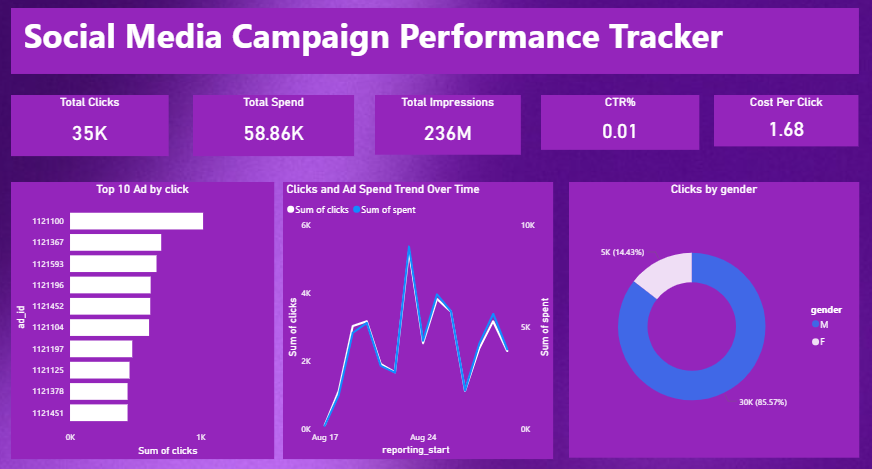

The page's visual inventory and layout, read from the dashboard file:
{"tool":"powerbi","page":{"name":"Page 1","canvas":[1280,720],"ordinal":0},"visuals":[{"type":"card","title":"Total Clicks","fields":{"Values":["data.Total Clicks"]},"box":[28.7,147.1,226.6,87.9],"z":0},{"type":"card","title":"Total Impressions","fields":{"Values":["data.Total Impressions"]},"box":[552.9,147.1,209.7,86.2],"z":1000},{"type":"card","title":"Total Spend","fields":{"Values":["data.Total Spend"]},"box":[290.8,147.1,231.7,87.9],"z":2000},{"type":"card","title":"CTR%","fields":{"Values":["data.CTR (%)"]},"box":[791.3,147.1,228.3,79.5],"z":3000},{"type":"card","title":"Cost Per Click","fields":{"Values":["data.CPC"]},"box":[1041.6,147.1,208,74.4],"z":4000},{"type":"barChart","title":"Top 10 Ad by click","fields":{"Y":["Sum(data.clicks)"],"Category":["data.ad_id"]},"box":[28.7,272.2,378.8,399],"z":5000},{"type":"lineChart","title":"Clicks and Ad Spend Trend Over Time","fields":{"Y":["Sum(data.clicks)"],"Y2":["Sum(data.spent)"],"Category":["data.reporting_start"]},"box":[421,272.2,388.9,399],"z":6000},{"type":"donutChart","title":"Clicks by gender","fields":{"Y":["Sum(data.clicks)"],"Category":["data.gender"]},"box":[831.9,272.2,417.6,397.4],"z":7000},{"type":"textbox","box":[28.7,22,1220.8,94.7],"z":8000}]}

Visuals, with their boxes on the page's 1280x720 design canvas (x1, y1, x2, y2). These are canvas units, not pixel positions in the 872x469 screenshot, which may show the page scaled, cropped or inside an application window:
"Total Clicks" card: (29,147,255,235)
"Total Impressions" card: (553,147,763,233)
"Total Spend" card: (291,147,522,235)
"CTR%" card: (791,147,1020,227)
"Cost Per Click" card: (1042,147,1250,222)
"Top 10 Ad by click" barChart: (29,272,408,671)
"Clicks and Ad Spend Trend Over Time" lineChart: (421,272,810,671)
"Clicks by gender" donutChart: (832,272,1250,670)
textbox: (29,22,1250,117)
